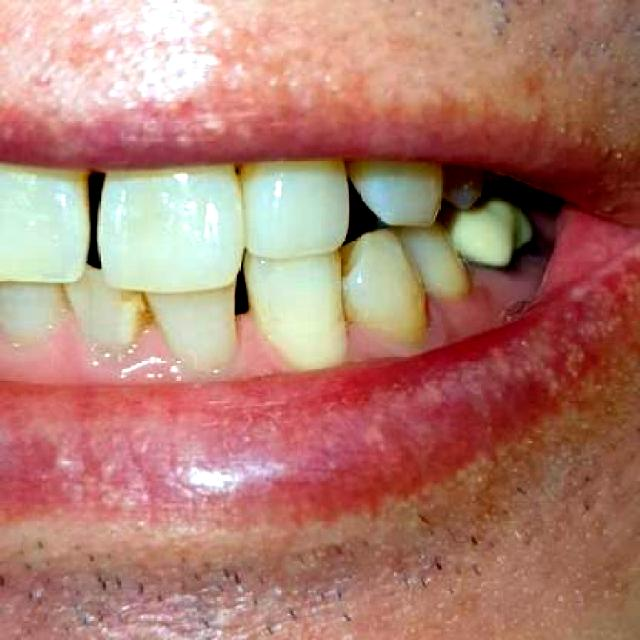Plaque: (237, 313, 282, 369)
